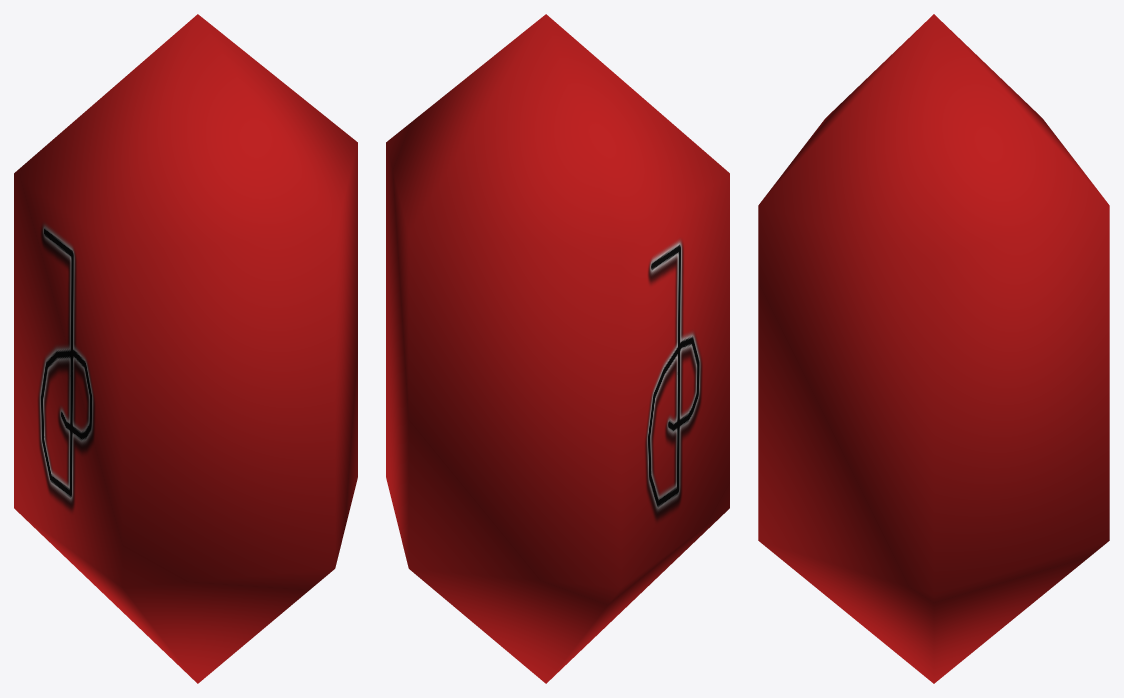
Rendered from Yesod_Relic.fbx.
The picture shows the model from 3 angles, left to right: view 1: azimuth 30°, elevation 25°; view 2: azimuth 150°, elevation 25°; view 3: azimuth 270°, elevation 25°; orthographic projection.
Parts seen in each view (by area): view 1: pCylinder1; view 2: pCylinder1; view 3: pCylinder1.
Part boxes in pixels (x1,y1,x2,y2): pCylinder1: (14,14,357,683); pCylinder1: (386,14,729,683); pCylinder1: (758,14,1109,683).
Size of the model in its own units: 22.65 by 50.08 by 23.81.
